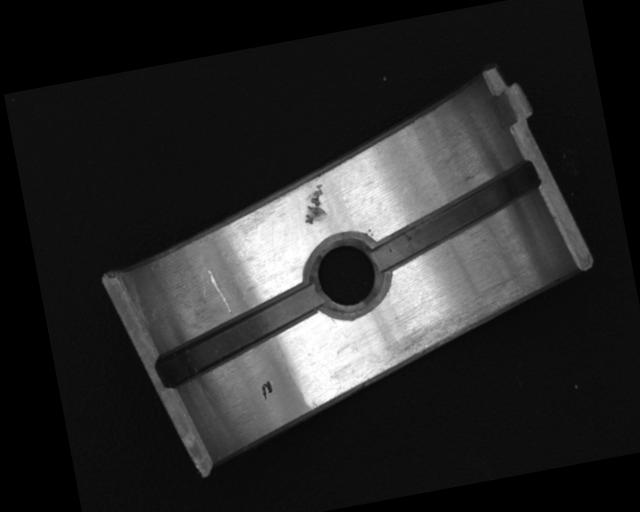blot: (258, 379, 275, 401)
bruise: (298, 181, 331, 226)
gap: (362, 161, 548, 271), (148, 283, 329, 387)
hole: (303, 229, 391, 323)
nick: (205, 265, 232, 317)
scratch: (372, 271, 539, 372)
